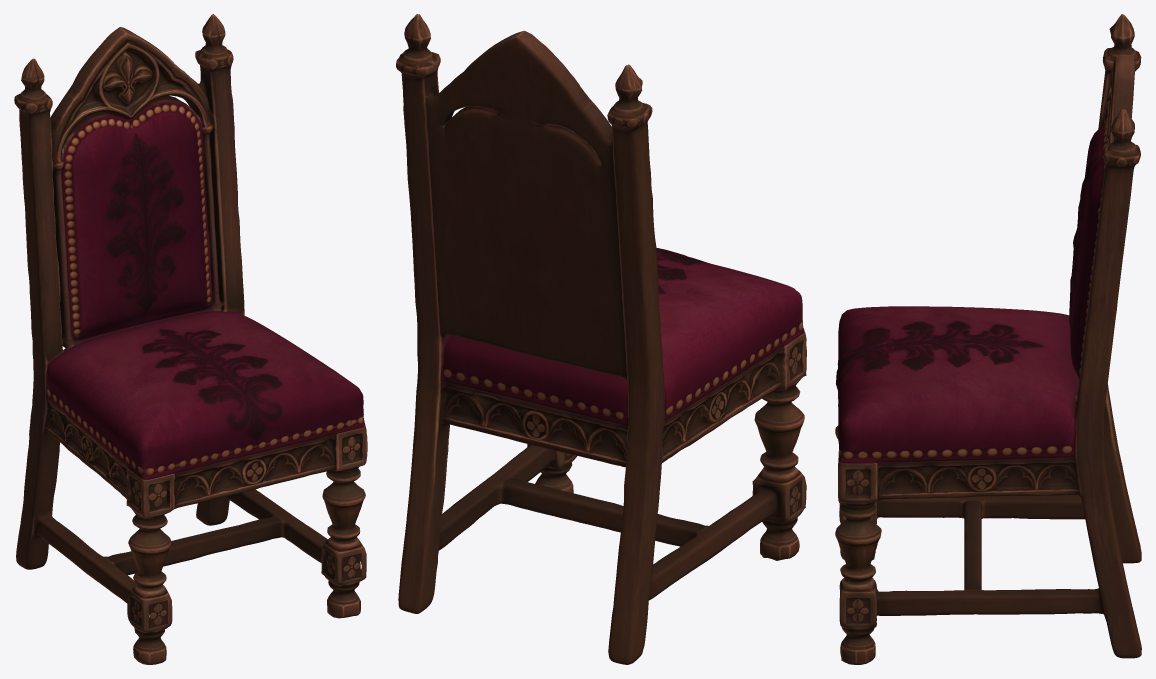
The model's file is ornate-throne.glb.
3 views of the same model, side by side, from view 1: azimuth 30°, elevation 25°; view 2: azimuth 150°, elevation 25°; view 3: azimuth 270°, elevation 25° (orthographic). The views are drawn at different scales.
Visible parts, largest first — view 1: tripo_node_16a2d6d0; view 2: tripo_node_16a2d6d0; view 3: tripo_node_16a2d6d0.
Part boxes in pixels (x1,y1,x2,y2): tripo_node_16a2d6d0: [14, 14, 367, 664]; tripo_node_16a2d6d0: [396, 14, 806, 664]; tripo_node_16a2d6d0: [835, 14, 1141, 664].
Bounding box in the file's own units: 45.91 × 97.68 × 49.13.
Materials: 1 (1 with a texture image).
